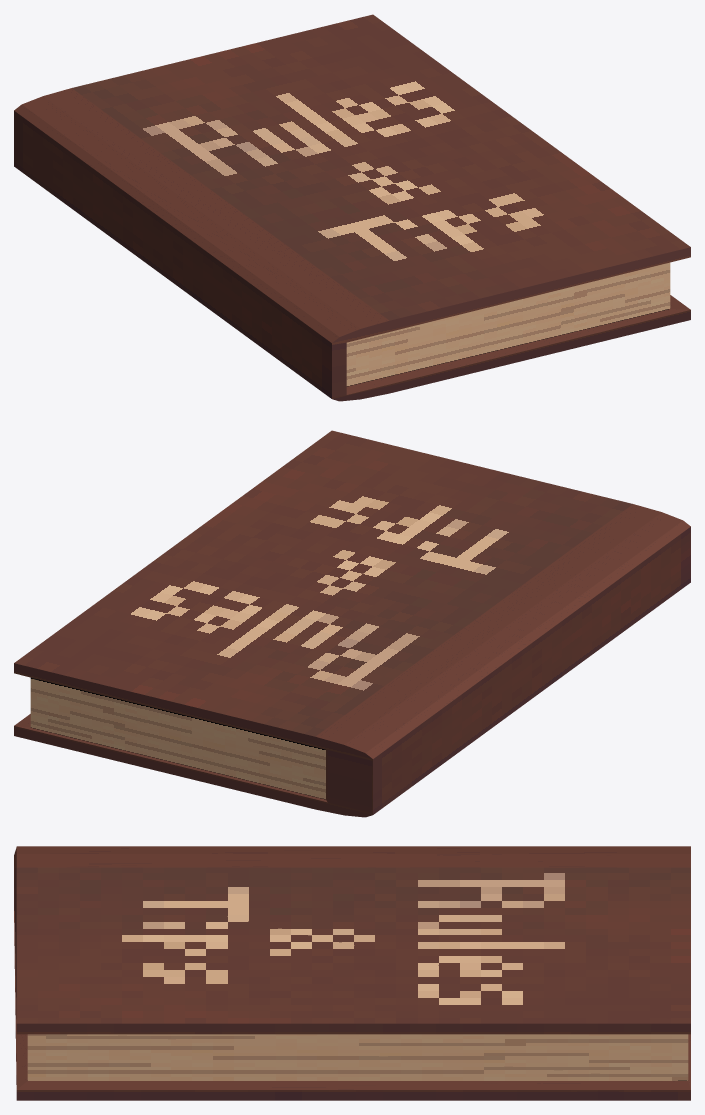
File: book.glb
3 renders of one model, top to bottom at view 1: azimuth 30°, elevation 25°; view 2: azimuth 150°, elevation 25°; view 3: azimuth 270°, elevation 25°, orthographic. The views are drawn at different scales.
Parts seen in each view (by area): view 1: Book; view 2: Book; view 3: Book.
Part boxes in pixels (x1,y1,x2,y2): Book: (14,14,690,401); Book: (14,430,690,817); Book: (14,846,690,1100).
Bounding box in the file's own units: 8.7 × 1.69 × 13.4.
Materials: 1 (1 with a texture image).
